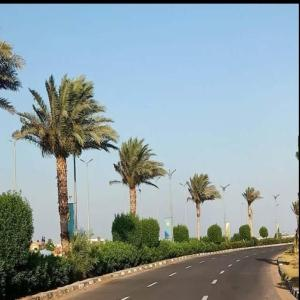palm tree: (12, 72, 119, 255), (109, 135, 167, 218), (186, 172, 222, 240), (0, 37, 25, 114), (242, 186, 263, 237)
